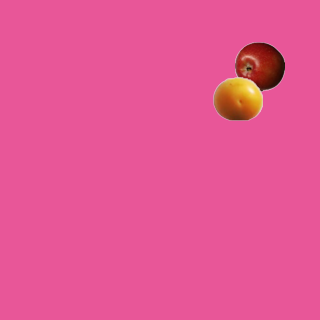Apple Braeburn: (234, 41, 284, 91)
Cherry Wax Yellow: (212, 73, 262, 123)
